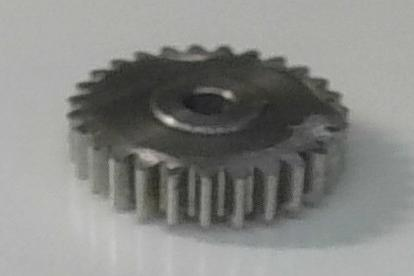scratch: (289, 117, 333, 144), (168, 50, 209, 61)
